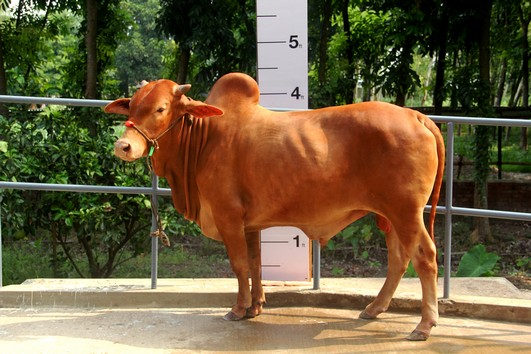cow: (100, 63, 459, 345)
